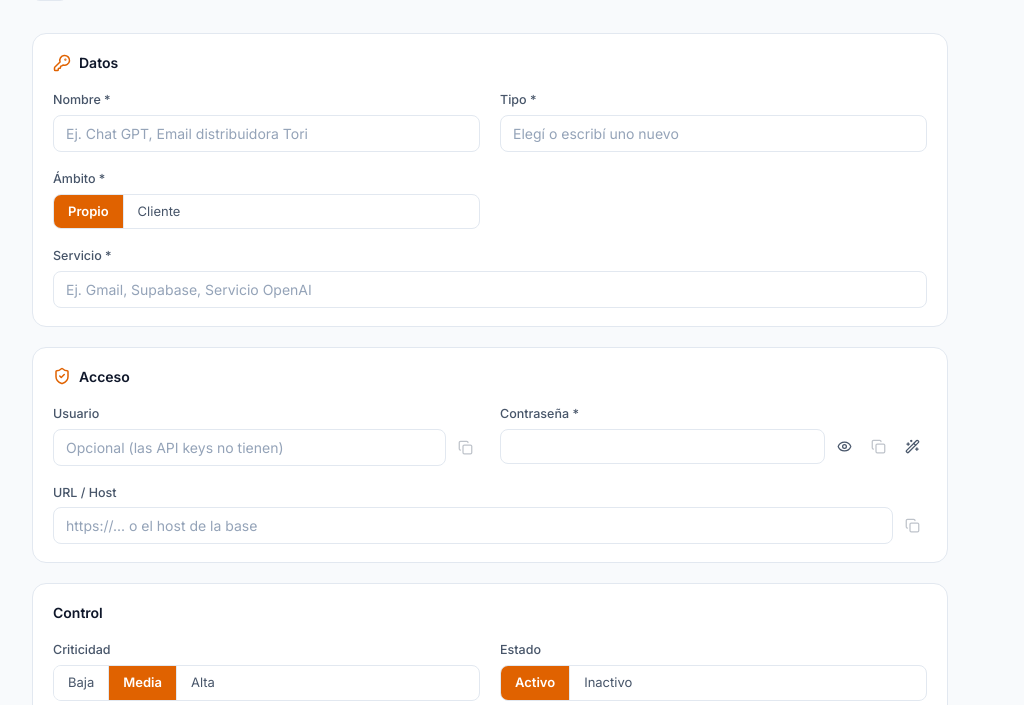
KeyDetalle — alta (admin) › un puerto inválido muestra error
The width and height of the screenshot is (1024, 705).
In the field labelled "Tipo": [714, 133] box x1=500 y1=115 x2=927 y2=152, type "Credencial Base de datos"
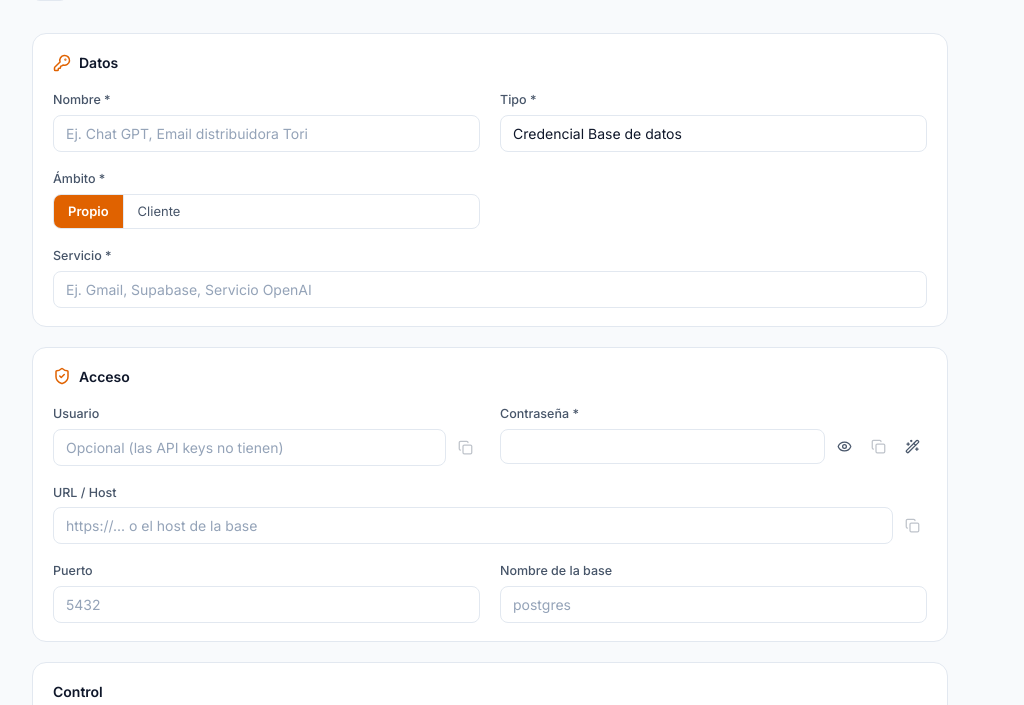
In the field labelled "Puerto": [266, 604] box x1=53 y1=586 x2=480 y2=623, type "abc"
(page scrolled)
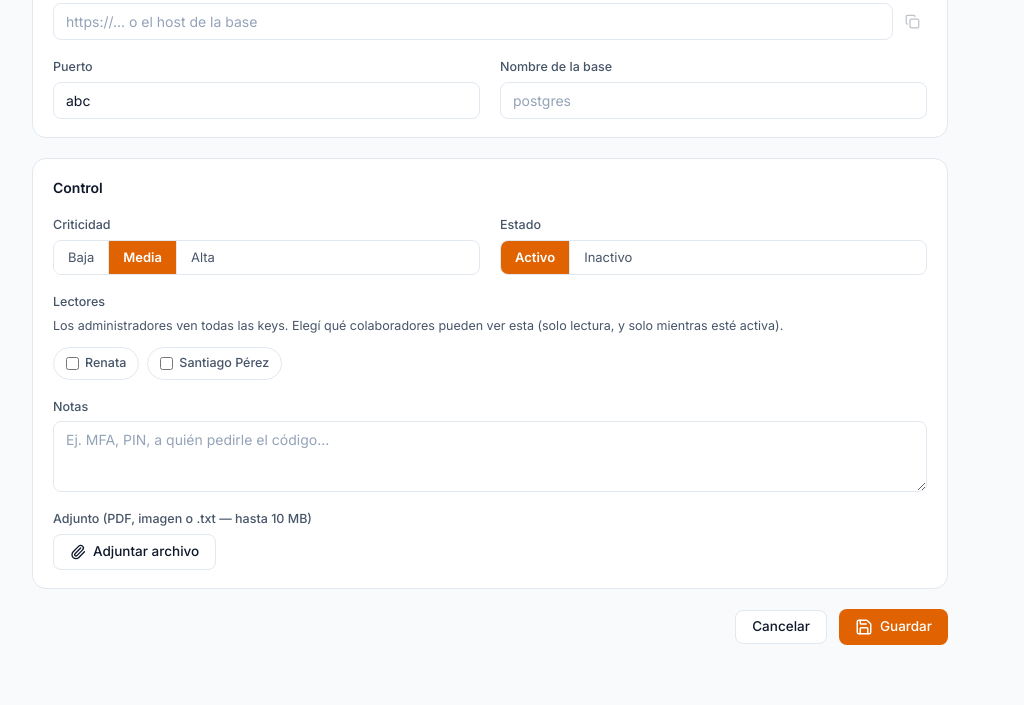
Click the button "Guardar": [893, 627] box x1=839 y1=609 x2=948 y2=645
(page scrolled)
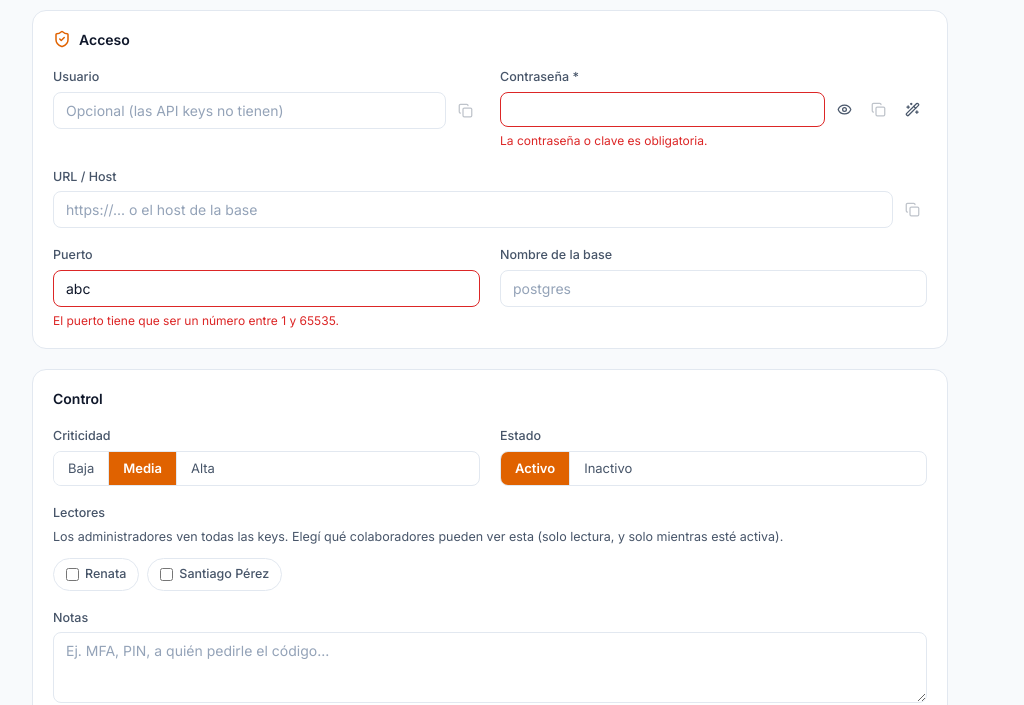
Expected: the text "El puerto tiene que ser un número entre 1 y 65535." is shown, x1=53 y1=313 x2=339 y2=328
